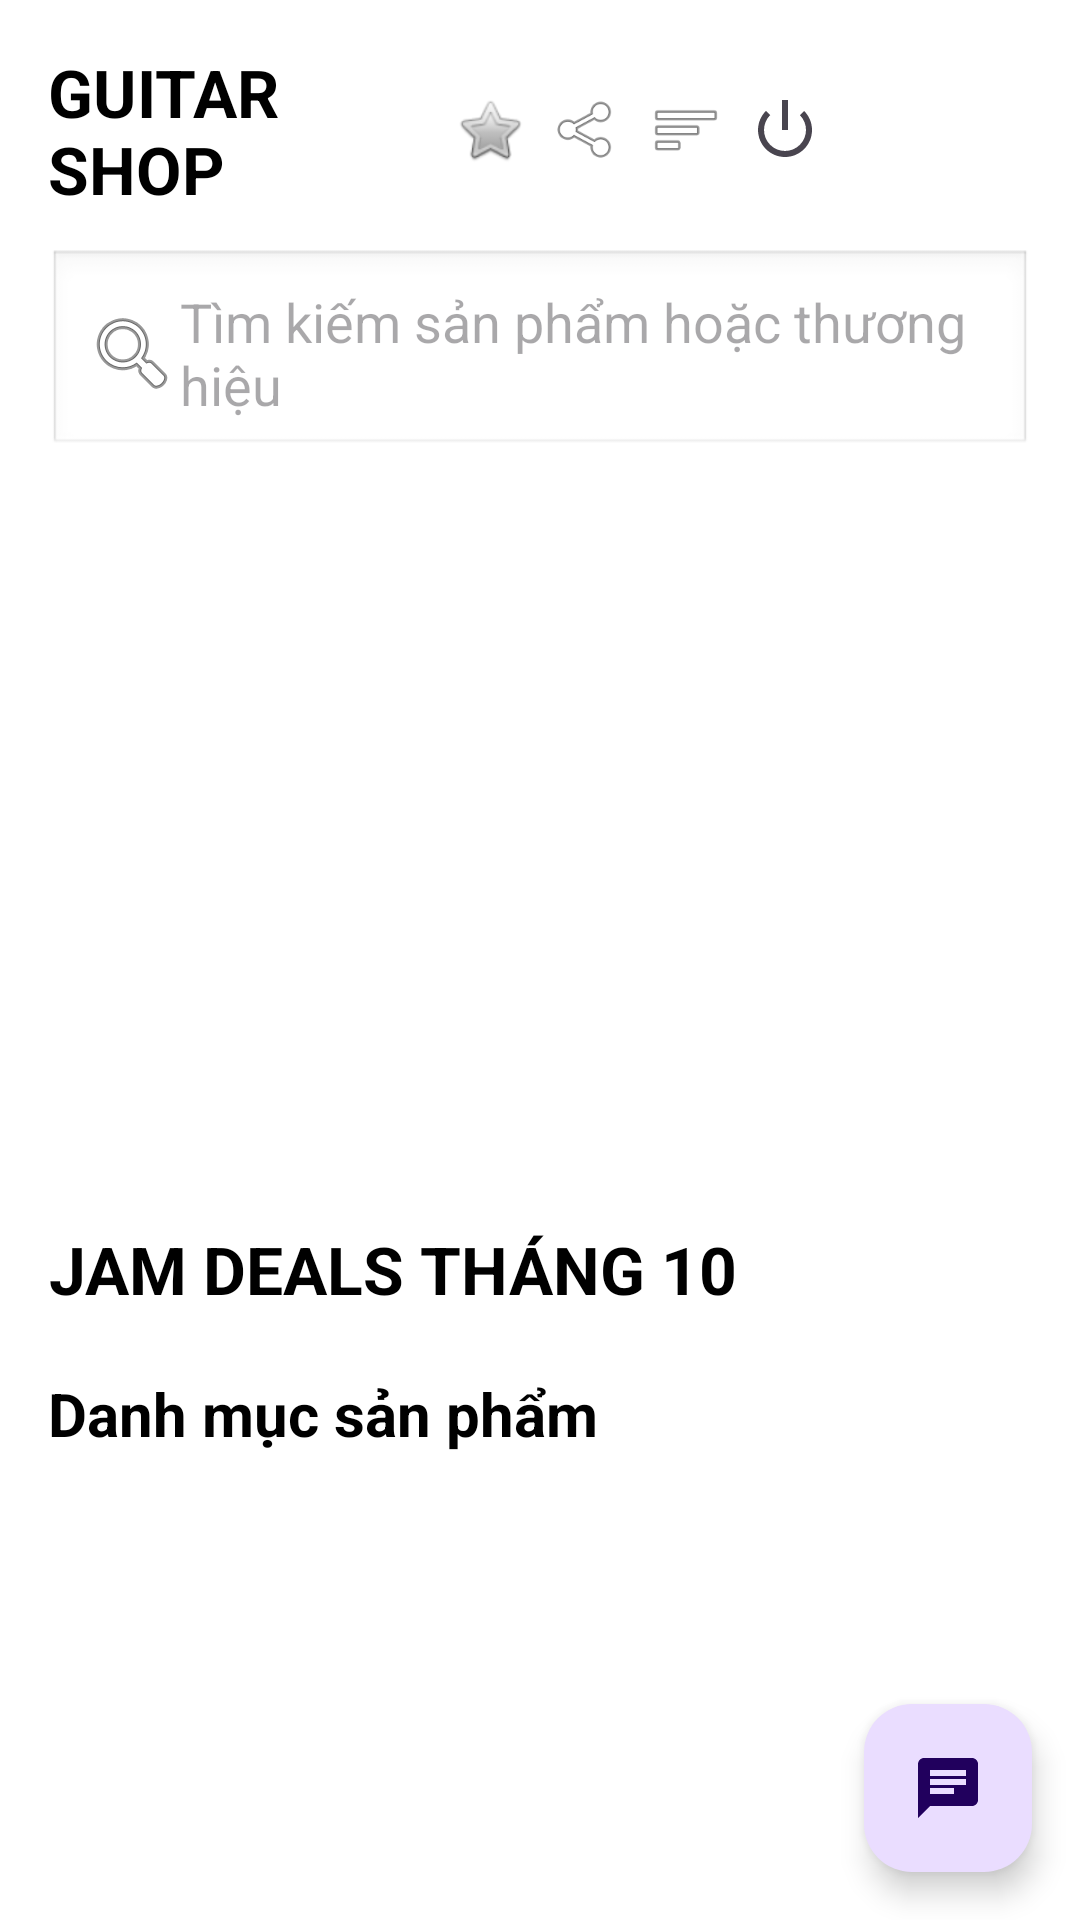

Icons on this 1080 × 1920 Android screen, each with its box as (x1, y1, x2, y2):
Chatbot: (864, 1704, 1032, 1872)
lock power off: (758, 100, 812, 157)
share: (557, 101, 611, 158)
sort by size: (655, 110, 717, 151)
star off: (461, 101, 521, 160)
